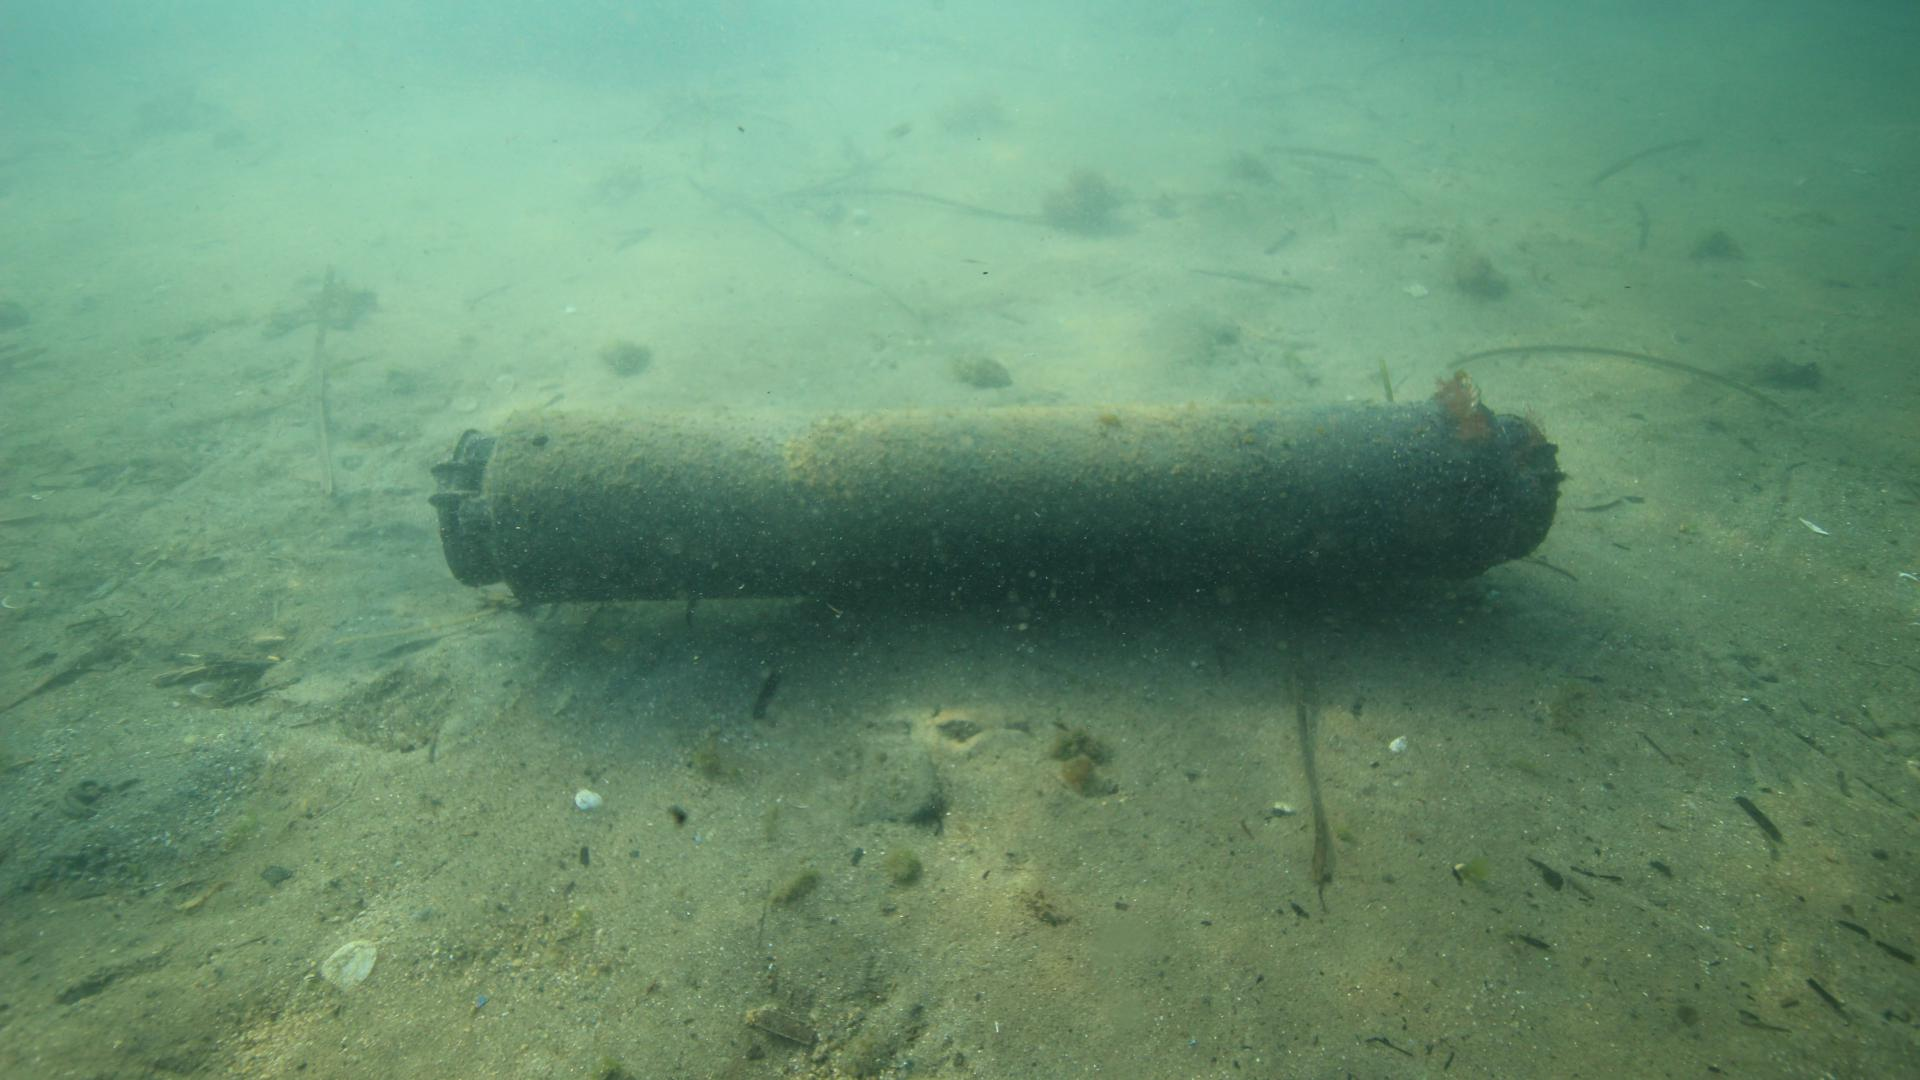eel fish trap: (434, 396, 1567, 608)
